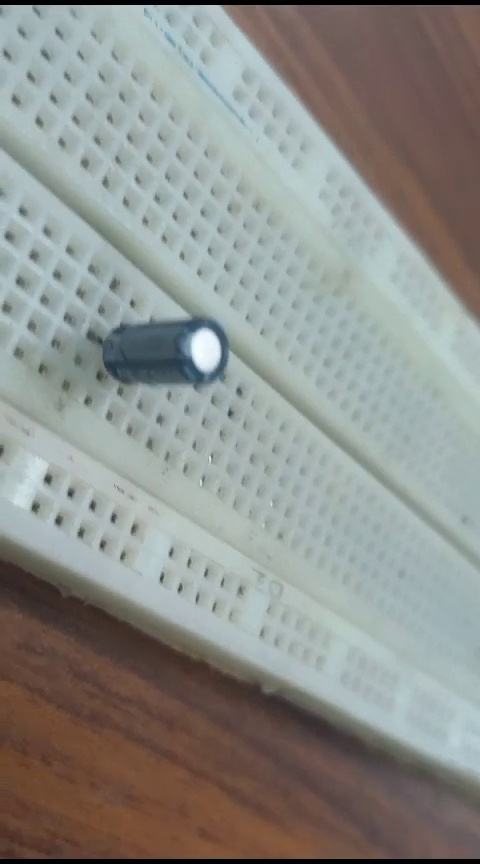capacitor: (82, 296, 250, 391)
